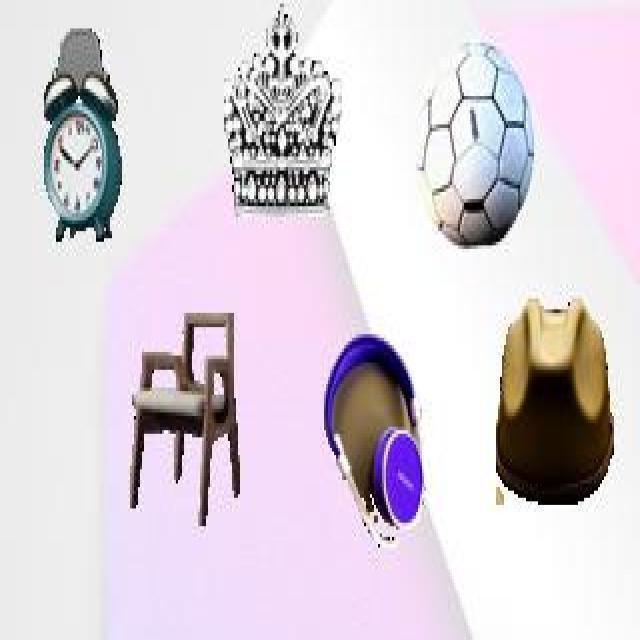Other Objects: (222, 0, 345, 217), (496, 297, 616, 507), (324, 332, 424, 550), (42, 28, 121, 245)
